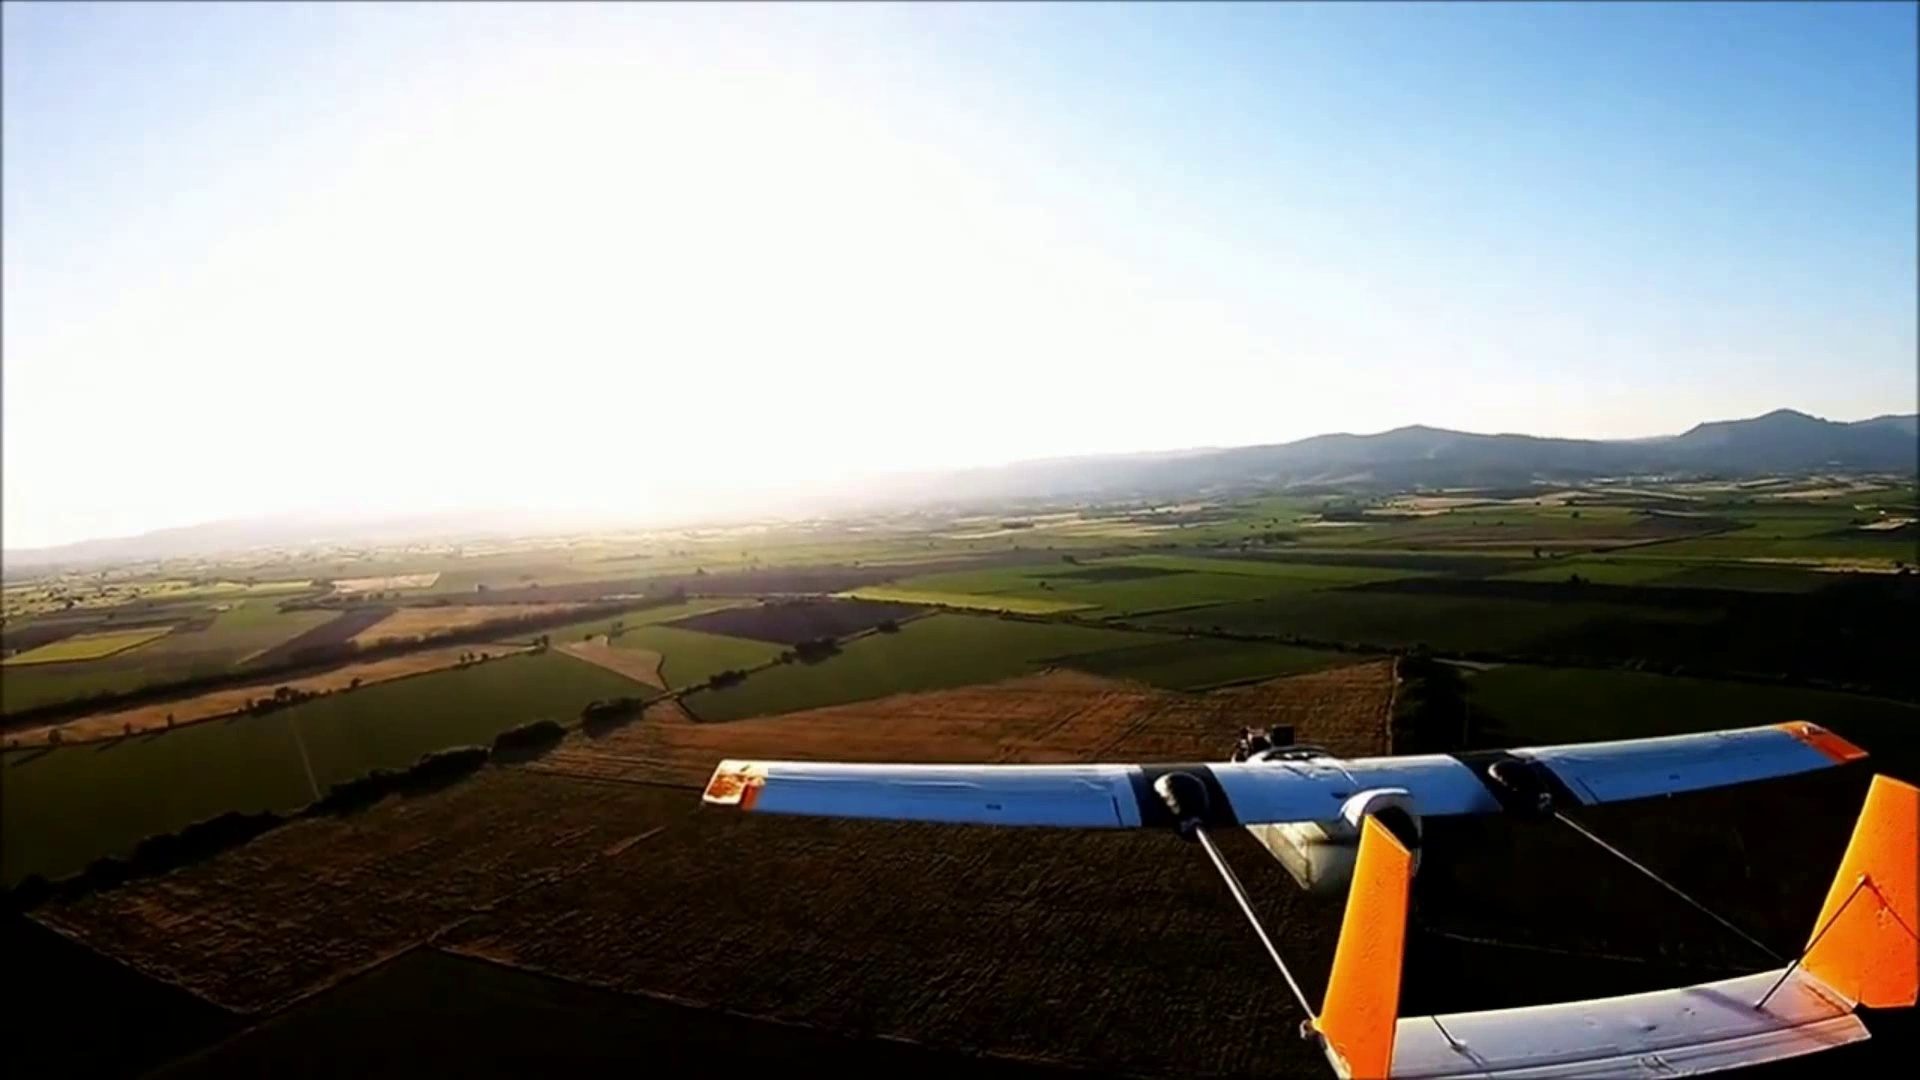airplane: (702, 719, 1915, 1064)
